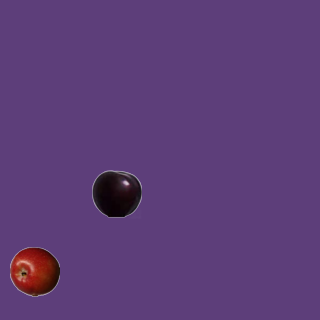Apple Braeburn: (9, 246, 59, 296)
Cherry Wax Black: (91, 168, 141, 218)
